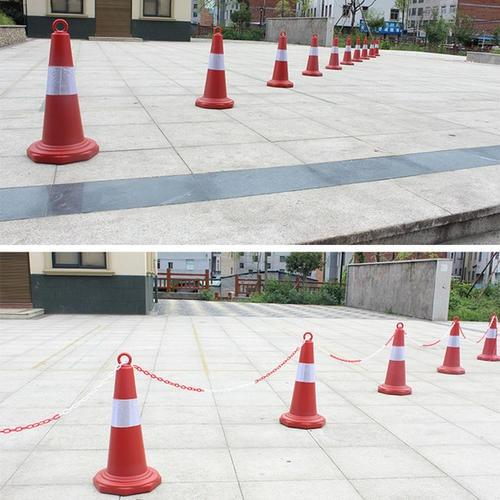cone_barrel: (23, 18, 98, 163), (89, 353, 161, 496), (276, 334, 328, 429), (191, 26, 235, 111), (373, 320, 413, 398), (434, 314, 468, 374), (264, 31, 293, 88), (474, 312, 499, 361), (300, 32, 323, 78), (325, 35, 341, 69), (342, 34, 355, 66)
